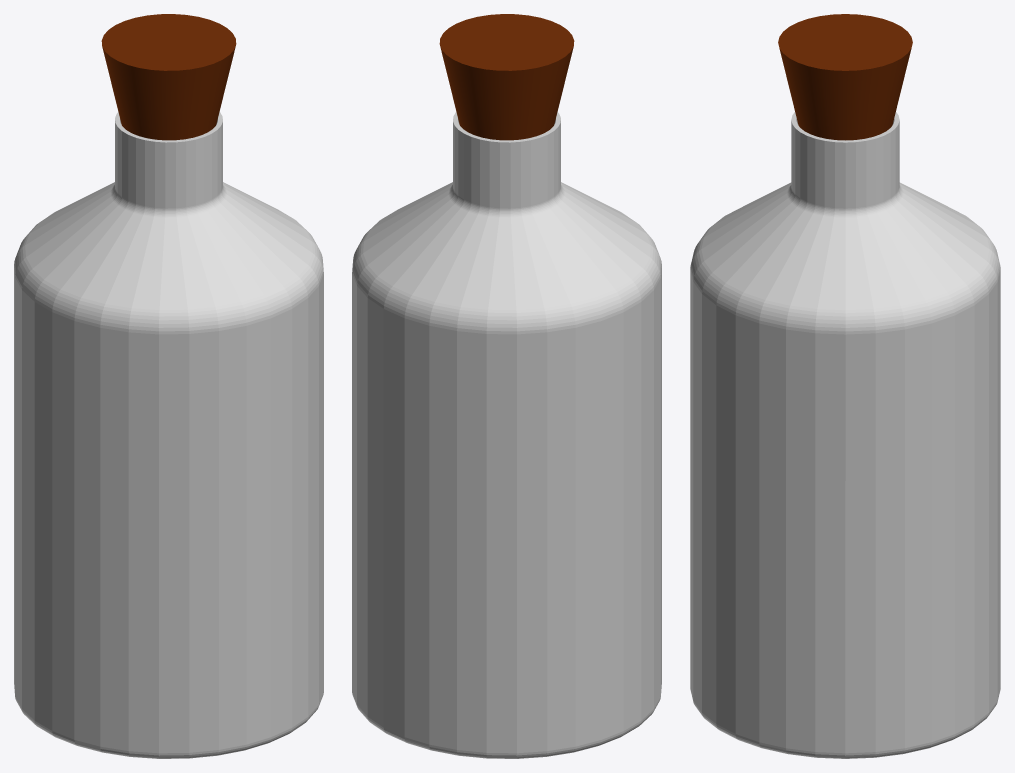
The model's file is Potion_02.fbx.
3 views of the same model, side by side, from view 1: azimuth 30°, elevation 25°; view 2: azimuth 150°, elevation 25°; view 3: azimuth 270°, elevation 25° (orthographic).
Parts seen in each view (by area): view 1: Fiole, Bouchon; view 2: Fiole, Bouchon; view 3: Fiole, Bouchon.
Part boxes in pixels (x1,y1,x2,y2): Fiole: [14, 112, 323, 758]; Bouchon: [101, 14, 236, 140]; Fiole: [352, 112, 661, 758]; Bouchon: [439, 14, 574, 140]; Fiole: [690, 112, 1000, 758]; Bouchon: [778, 14, 912, 140].
Bounding box in the file's own units: 188 × 437 × 188.
